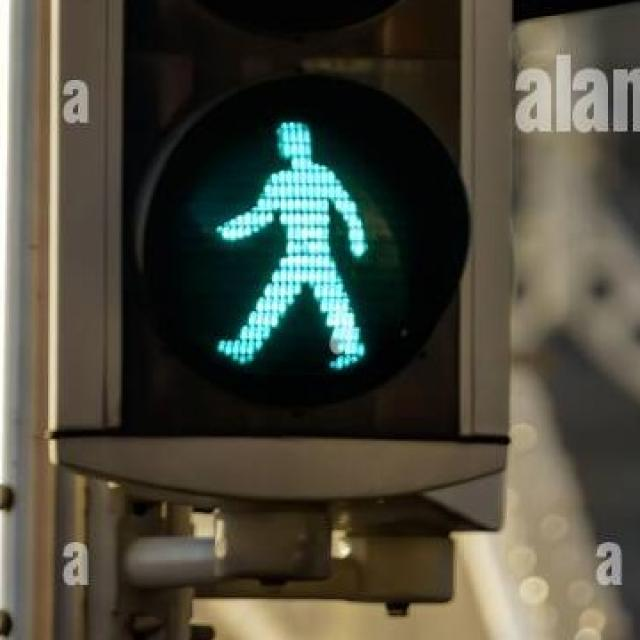green_light: (201, 101, 389, 370)
